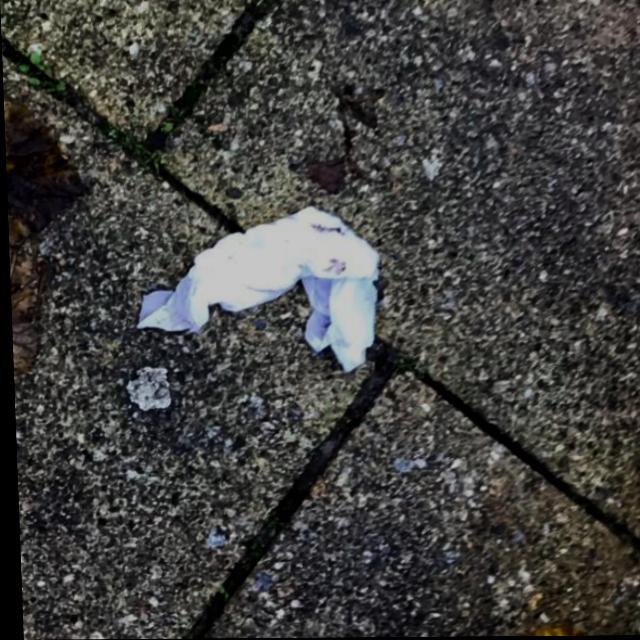Paper: (128, 204, 383, 378)
